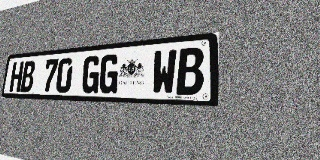0: (55, 58, 73, 93)
7: (41, 59, 59, 93)
B: (176, 47, 204, 95), (20, 61, 36, 92)
G: (98, 54, 120, 94), (81, 55, 101, 93)
H: (9, 62, 24, 92)
W: (151, 49, 177, 95)
